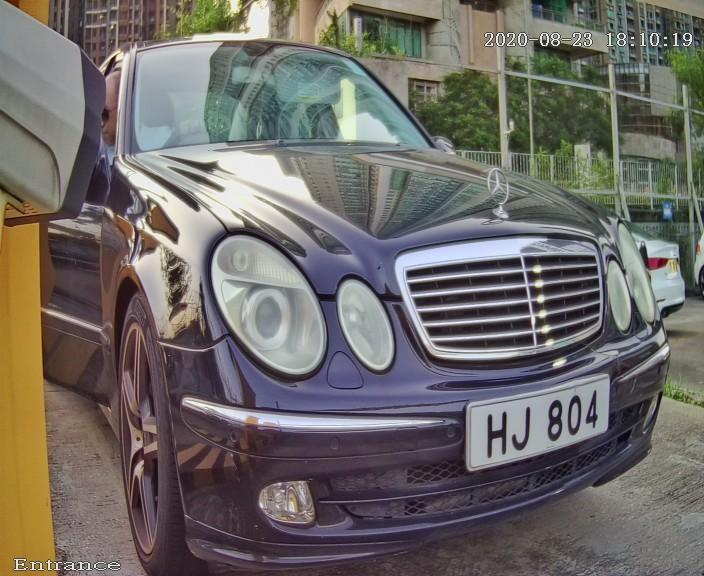License Plate: (434, 349, 649, 486)
